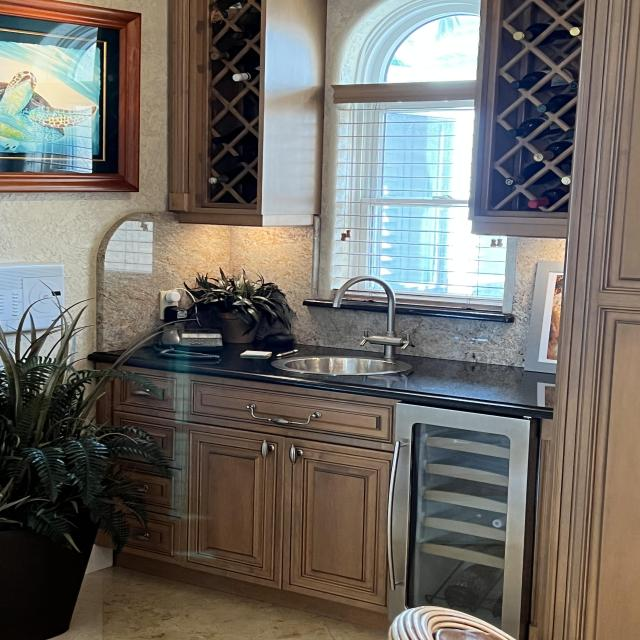Appliance_Dishwasher: (389, 405, 534, 640)
Appliance_Sink: (270, 276, 411, 378)
Cabinet_Raised_Panel: (527, 0, 640, 640), (105, 367, 394, 612)
Countertop_Solid_Surface: (125, 343, 560, 419)
